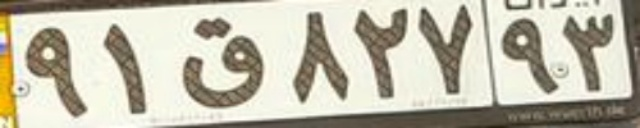1: (102, 23, 147, 114)
2: (354, 8, 407, 98)
3: (560, 12, 614, 92)
7: (416, 4, 476, 96)
8: (290, 11, 349, 102)
9: (27, 27, 87, 115), (501, 18, 557, 93)
ghaf: (179, 17, 266, 108)
